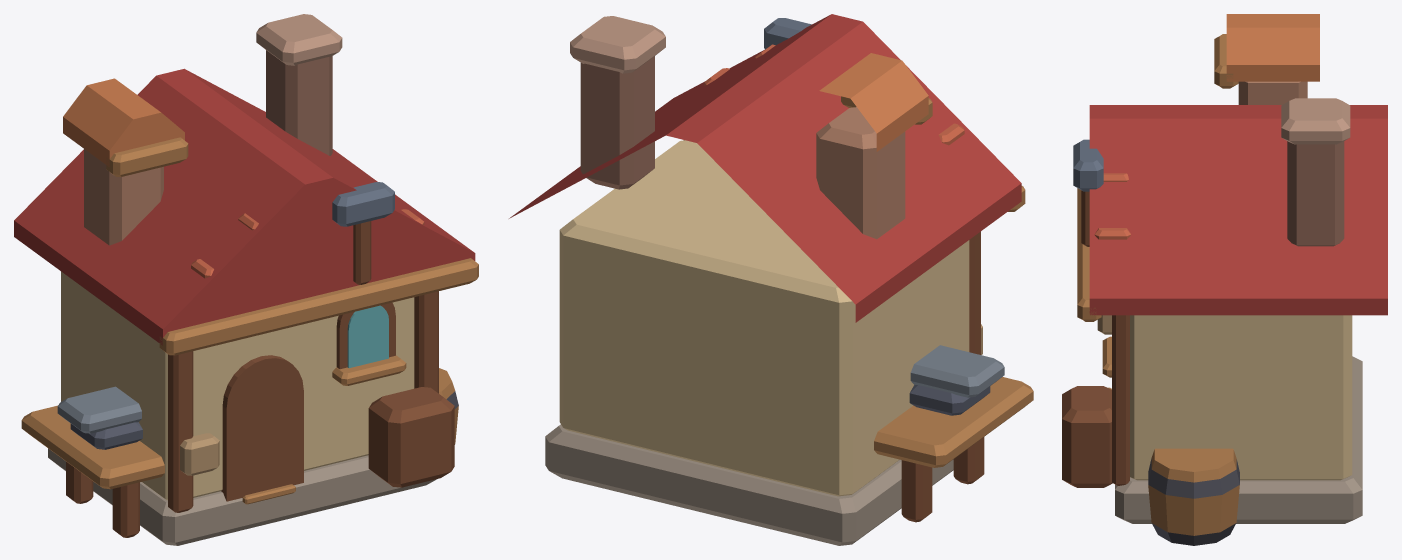
File: workshop.glb
The picture shows the model from 3 angles, left to right: view 1: azimuth 30°, elevation 25°; view 2: azimuth 150°, elevation 25°; view 3: azimuth 270°, elevation 25°; orthographic projection. The views are drawn at different scales.
Visible parts, largest first — view 1: Base, Upgrade3, Upgrade2; view 2: Base, Upgrade2, Upgrade3; view 3: Base, Upgrade3, Upgrade2.
Part boxes in pixels (x1=…): Base: x1=14, y1=14, x2=478, y2=545; Upgrade3: x1=63, y1=78, x2=188, y2=245; Upgrade2: x1=21, y1=368, x2=458, y2=537; Base: x1=509, y1=14, x2=1025, y2=545; Upgrade2: x1=874, y1=345, x2=1033, y2=522; Upgrade3: x1=816, y1=53, x2=932, y2=239; Base: x1=1062, y1=98, x2=1387, y2=523; Upgrade3: x1=1214, y1=14, x2=1319, y2=104; Upgrade2: x1=1148, y1=448, x2=1239, y2=545.
Bounding box in the file's own units: 2.16 × 2.25 × 1.61.
